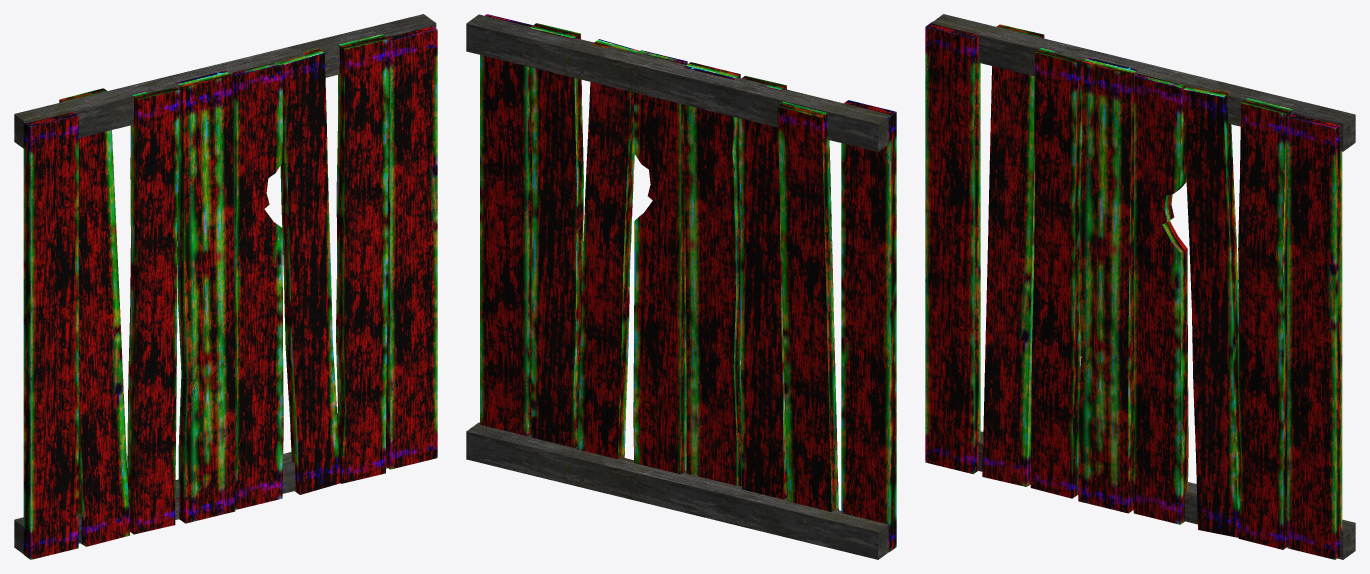
The model's file is SM_PlankWall_Wall1.fbx.
3 views of the same model, side by side, from view 1: azimuth 30°, elevation 25°; view 2: azimuth 150°, elevation 25°; view 3: azimuth 330°, elevation 25° (orthographic).
Visible parts, largest first — view 1: SM_PlankWall_Wall1_LOD0; view 2: SM_PlankWall_Wall1_LOD0; view 3: SM_PlankWall_Wall1_LOD0.
Boxes of the visible parts, x1,y1,x2,y2 form: SM_PlankWall_Wall1_LOD0: (14, 14, 437, 559); SM_PlankWall_Wall1_LOD0: (466, 14, 896, 559); SM_PlankWall_Wall1_LOD0: (925, 14, 1355, 559).
Size of the model in its own units: 298 by 30.77 by 303.
